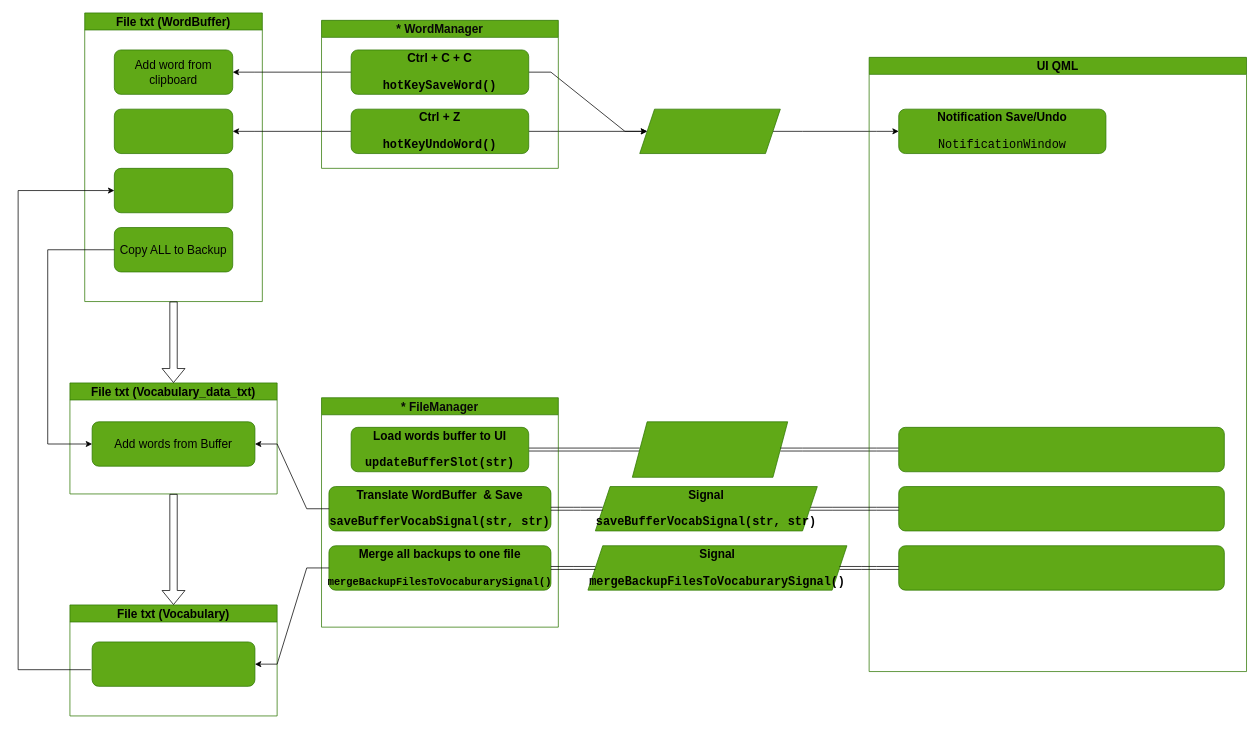
Image size: 1259x729. Some labels were removed from this diagram. Here are the shapes that lost their labels. From the top down, the centre of each, then its label:
At [173,131]: "Delete last".
At [709,131]: "Signal textSaveUndo()".
At [173,190]: "Clear ALL Buffer".
At [710,449]: "Signal/Slot updateBufferSignal() updateBufferSlot()".
At [1061,449]: "Load WordBuffer fileManagerContext.updateBufferSignal()".
At [1061,508]: "Translate WordBuffer & Save fileManagerContext.saveBufferVocabSignal(str, str)".
At [1061,567]: "Merge & Save vocaburary fileManagerContext.mergeBackupFilesToVocaburarySignal()".
At [173,663]: "Merge from backups".
